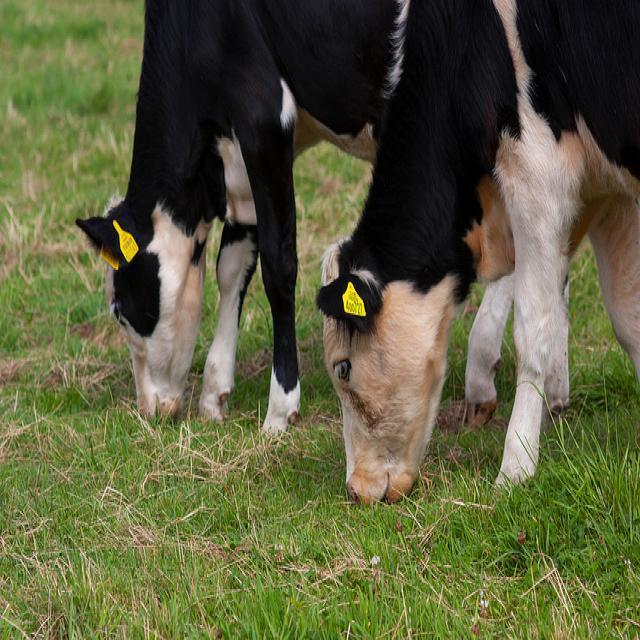cow: (316, 21, 639, 498), (76, 0, 399, 436)
